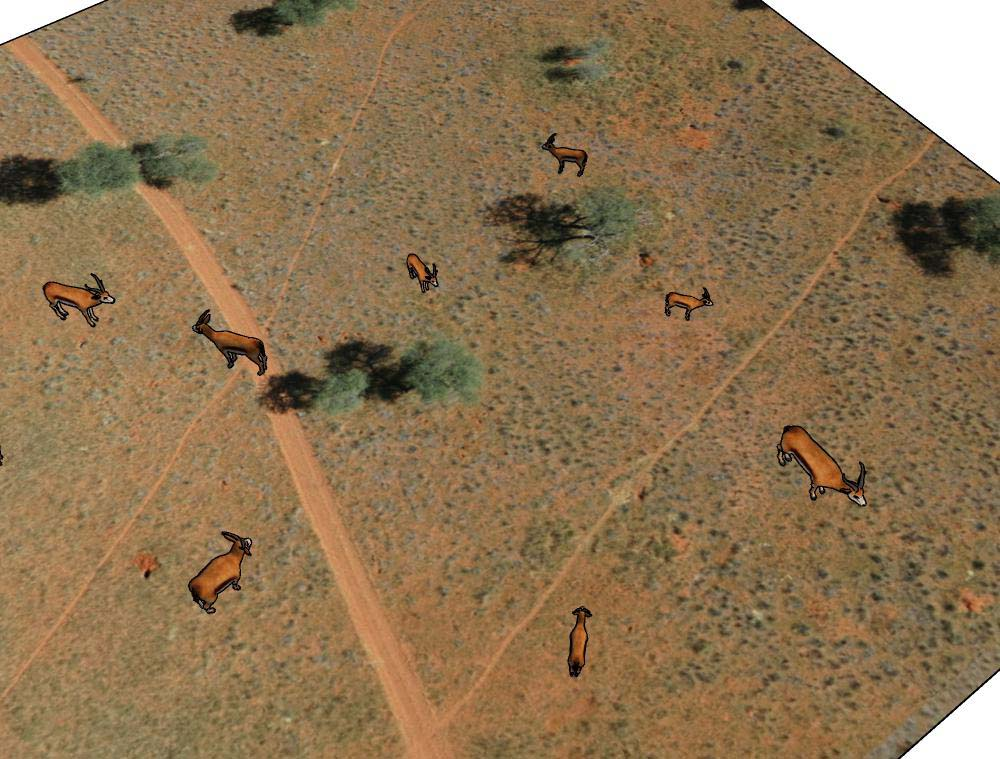springbok: (777, 417, 870, 509), (185, 529, 257, 614), (189, 308, 274, 375), (35, 270, 121, 330), (557, 604, 598, 679), (534, 135, 598, 181), (660, 281, 716, 326), (394, 249, 447, 295)
